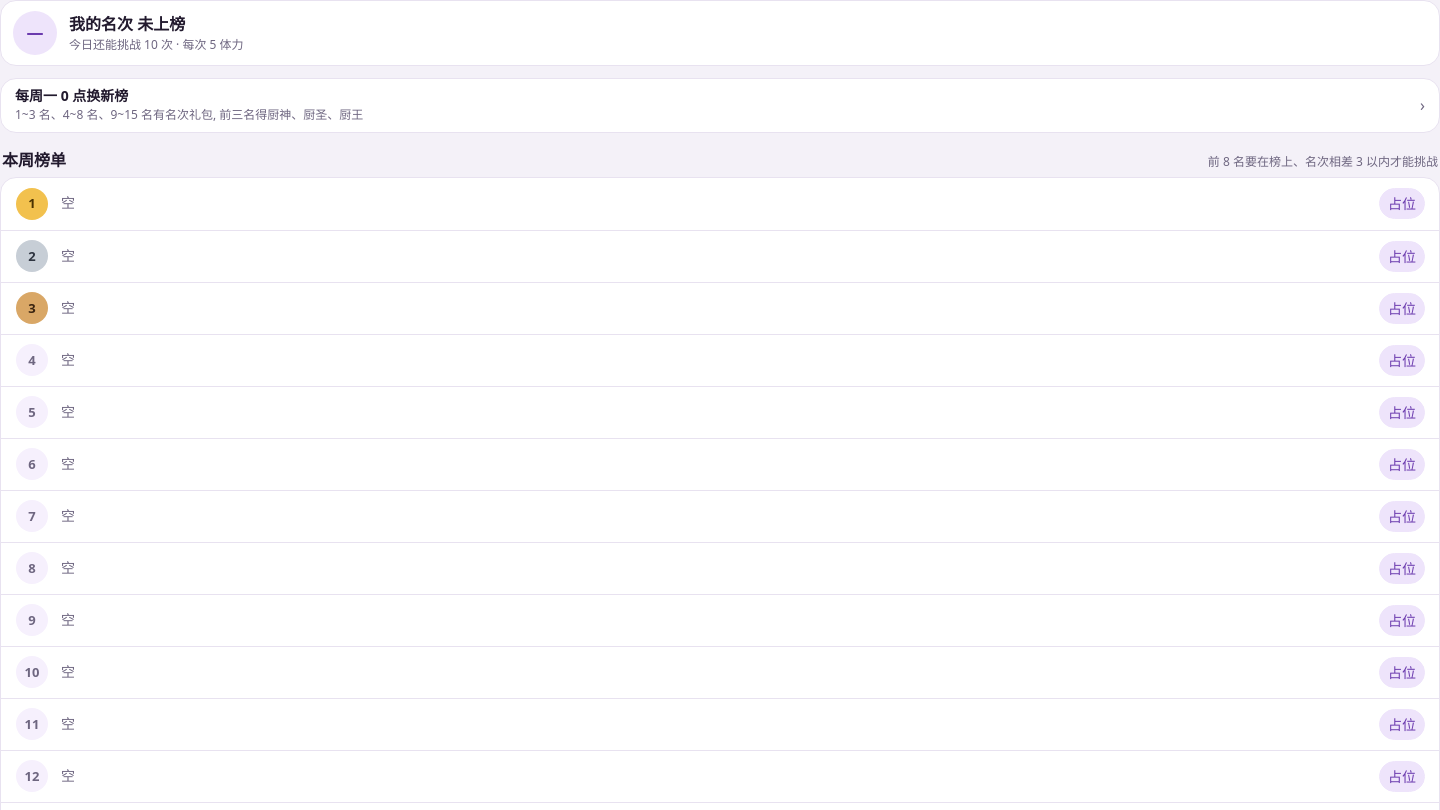
RankPanel › 换榜规则一行，点开看名次礼包
Click the button with test id "rank-weekly" at (72, 96), box [1,79,1439,132]
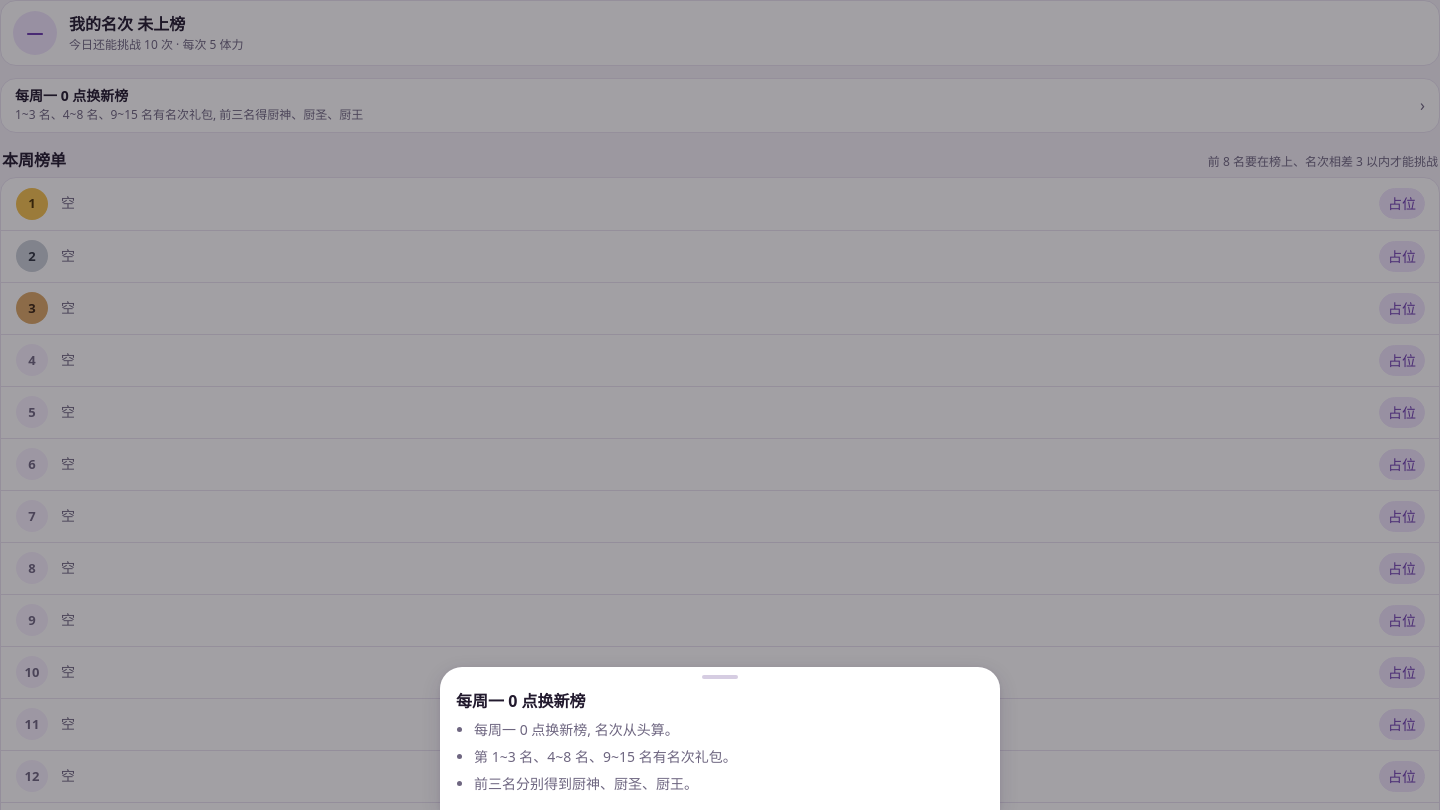
Expected: the text with class "dt-sheet-title" reads "每周一 0 点换新榜", [456,690,586,712]
Expected: the number of list items is 3, [474,720,679,739]; [474,747,737,766]; [474,774,698,793]
